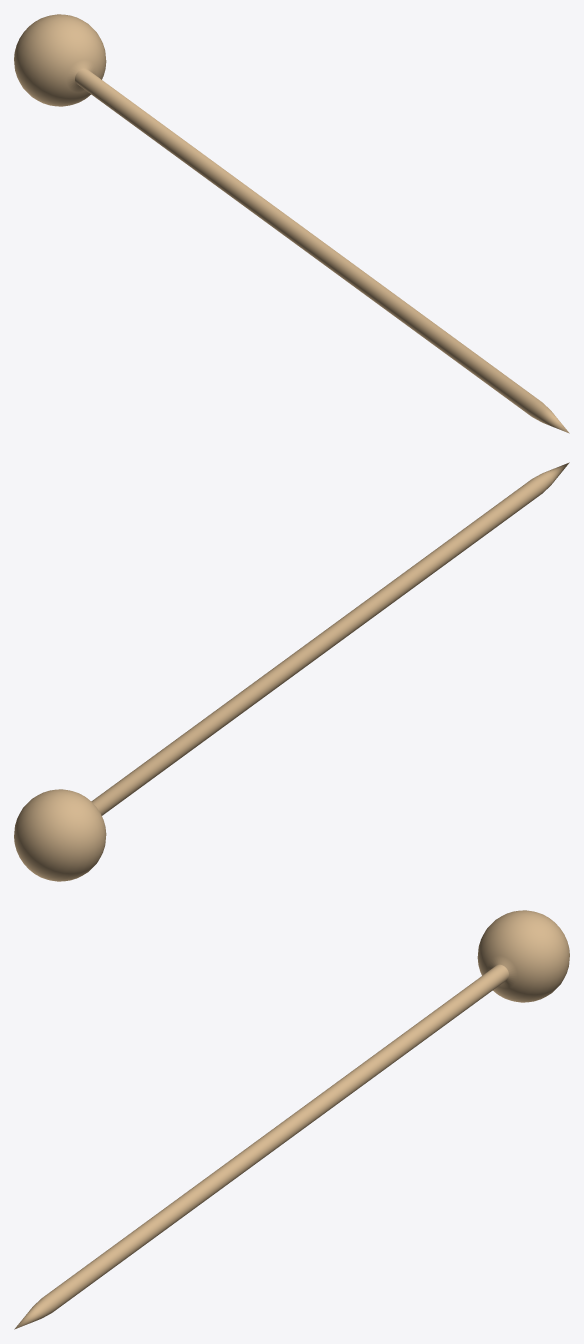
Rendered from TAN.glb.
The picture shows the model from 3 angles, top to bottom: view 1: azimuth 30°, elevation 25°; view 2: azimuth 150°, elevation 25°; view 3: azimuth 330°, elevation 25°; orthographic projection.
Parts seen in each view (by area): view 1: Sphere; view 2: Sphere; view 3: Sphere.
Boxes of the visible parts, left/top/right/bottom form: Sphere: left=14, top=14, right=569, bottom=433; Sphere: left=14, top=462, right=569, bottom=881; Sphere: left=14, top=910, right=569, bottom=1329.
Size of the model in its own units: 0.02 by 0.02 by 0.2305.
